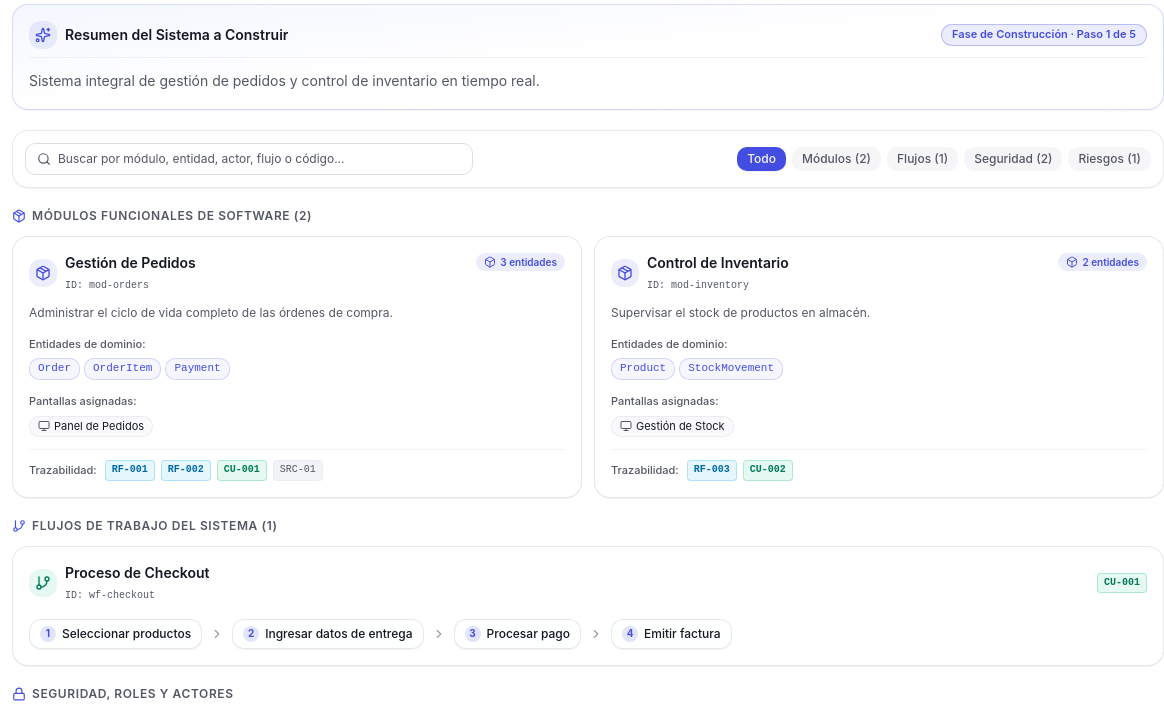
GenerationPlanDetail › filters content in real-time when typing in search input
Type "Inventario" into the search field named "Buscar en el plan de generación" at [249, 159], box [25,143,473,175]
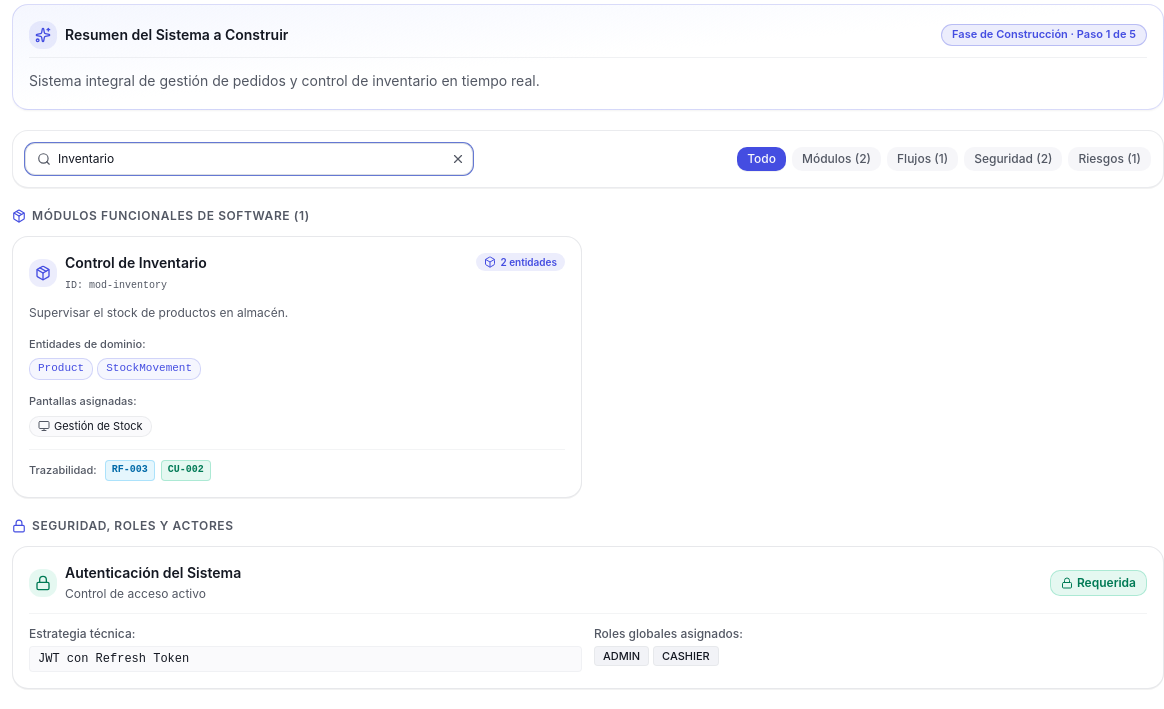
Expected: the heading "Control de Inventario" is shown, [65,253,207,273]
Clear search
Click the button named "Limpiar búsqueda" at [458, 159], box [451,152,465,166]
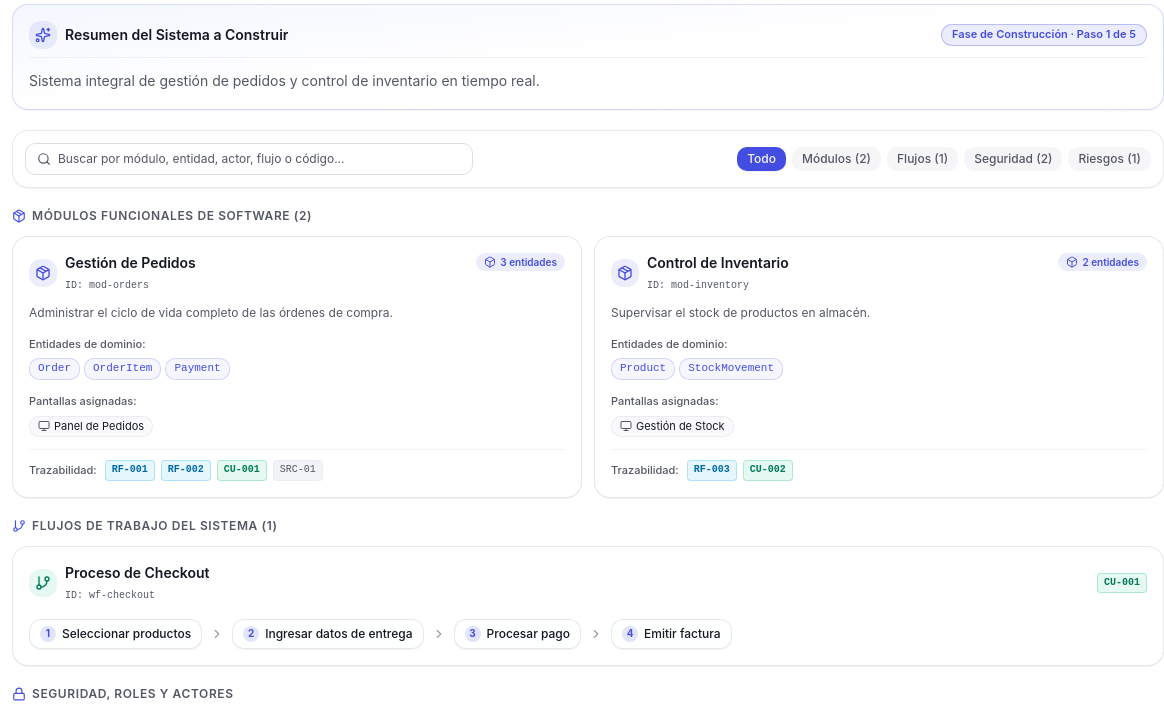
Expected: the heading "Control de Inventario" is shown, [647,253,789,273]
Expected: the heading "Gestión de Pedidos" is shown, [65,253,196,273]
